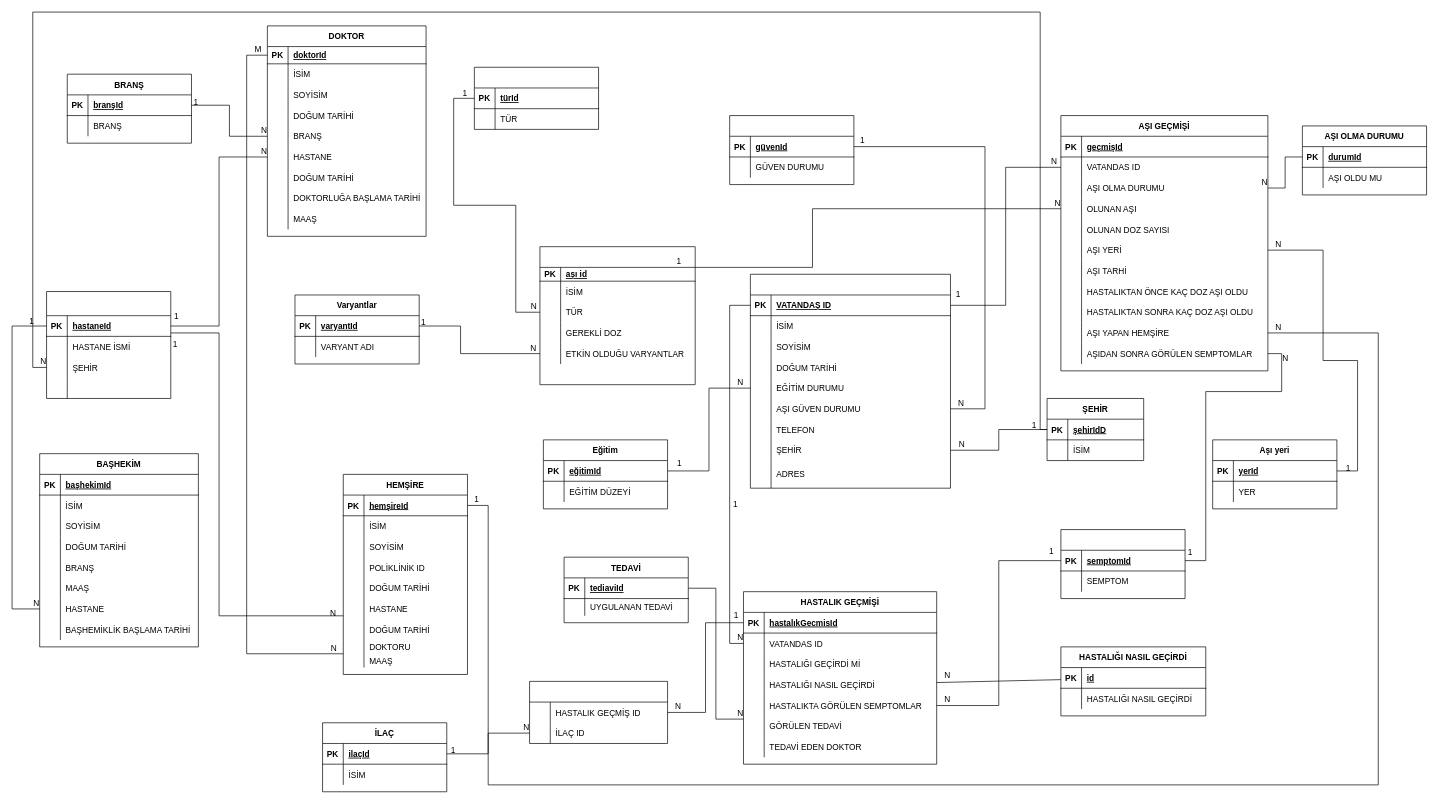
Image size: 1439x804. Some labels were removed from this diagram. The box of each missing label's shape, as (x1, y1, x2, y2) in pixels:
AŞI: (539, 246, 695, 385)
AŞI GÜVEN: (729, 115, 854, 185)
AŞII TÜRÜ: (474, 67, 599, 129)
KURUM: (46, 291, 171, 398)
SEMPTOMLAR: (1060, 529, 1185, 599)
TEDAVİDE KULLANILAN İLAÇALR: (529, 681, 668, 743)
VATNDAŞ: (750, 274, 950, 488)
